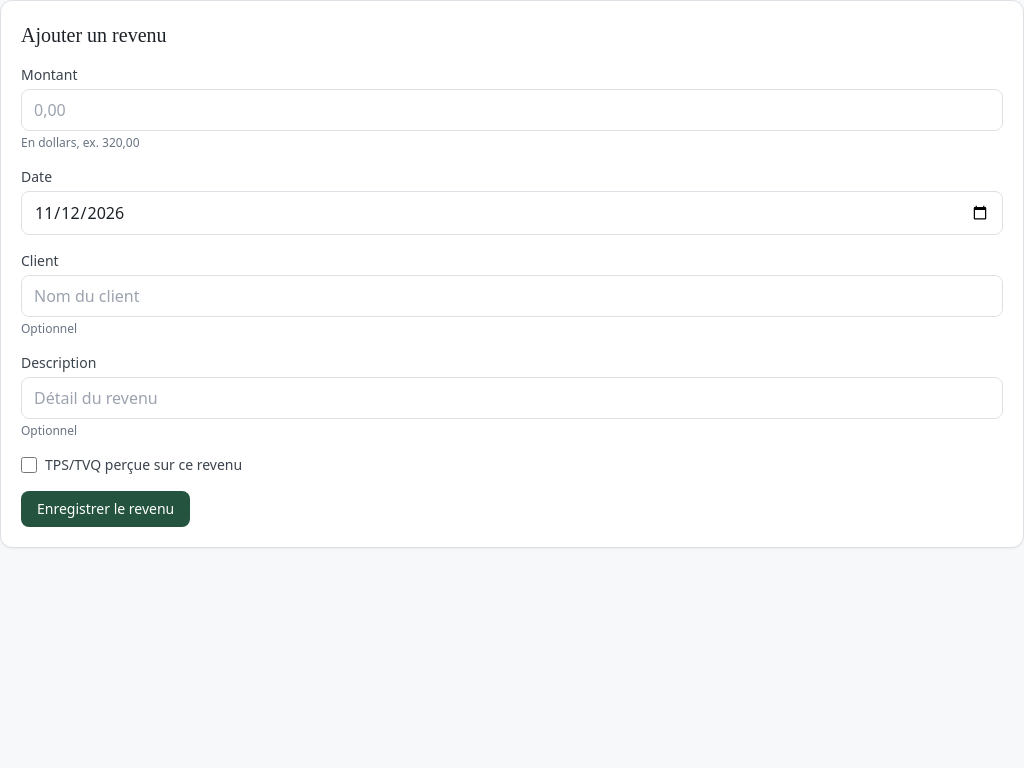
it: IncomeForm › n'affiche la zone Taxes que si inscrit et TPS/TVQ perçue cochée
This screenshot has width=1024, height=768.
Check: the text "Ajuster les taxes manuellement" is not shown
Click the checkbox labelled "TPS/TVQ perçue sur ce revenu". click: (29, 465)
box: [21,457,37,473]
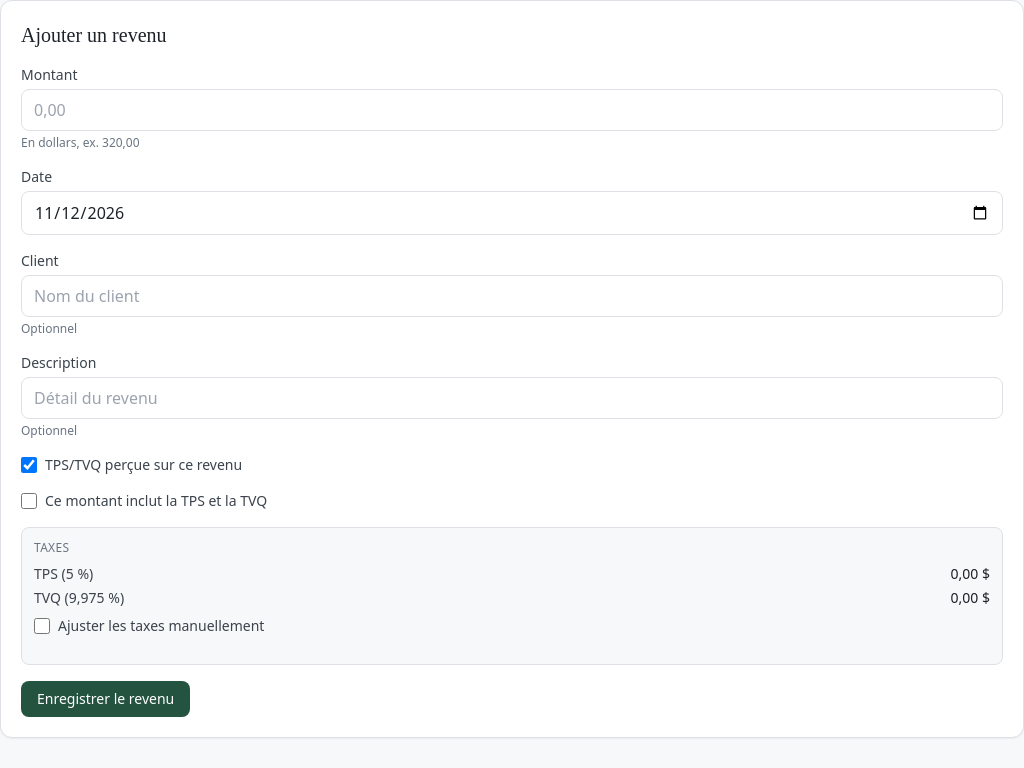
Check: the text "Ajuster les taxes manuellement" is shown, box [34,616,264,635]
